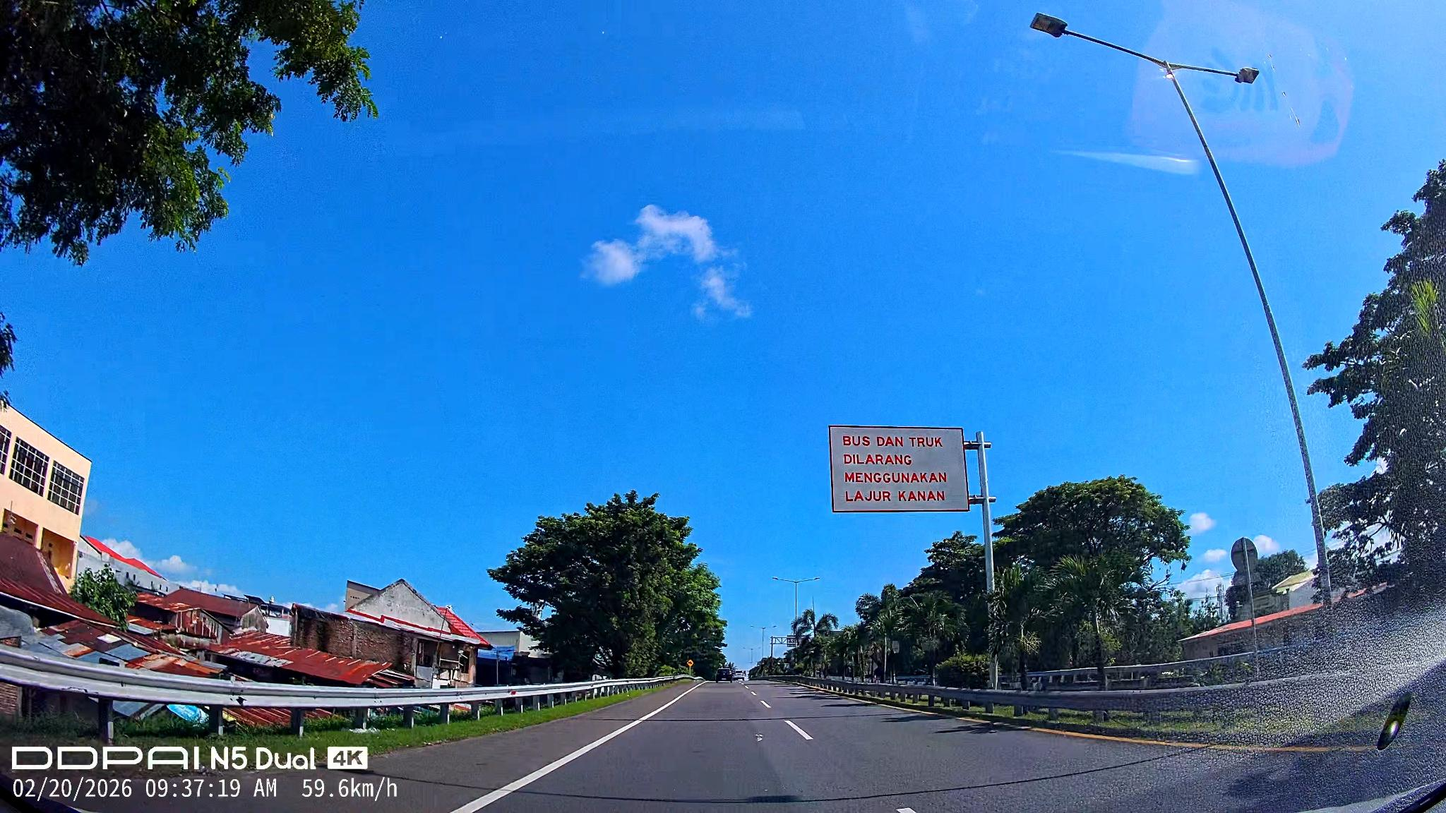rambu_teks: (828, 424, 970, 513)
